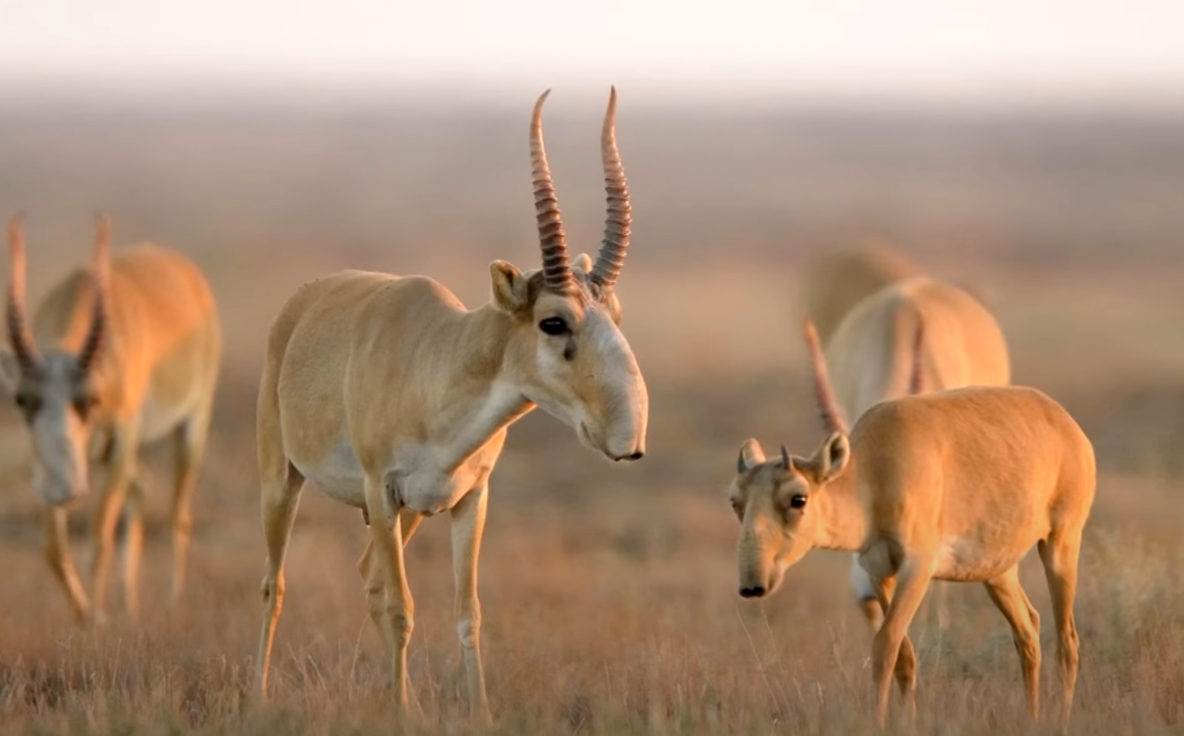saiga: (259, 68, 664, 713)
